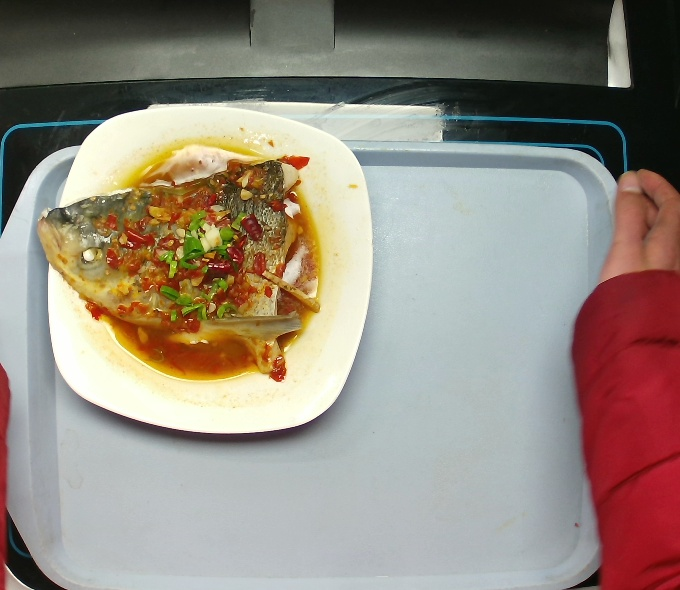wcq-DuoJiaoYuTou: (36, 131, 326, 386)
